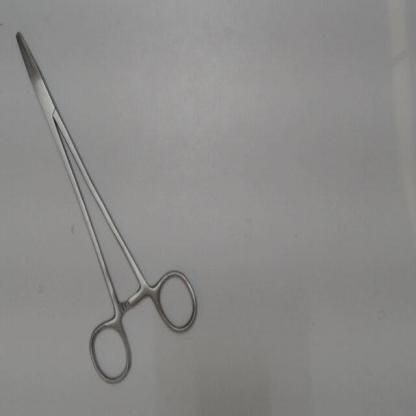8 Mayo Needle Holder: (6, 16, 205, 397)
